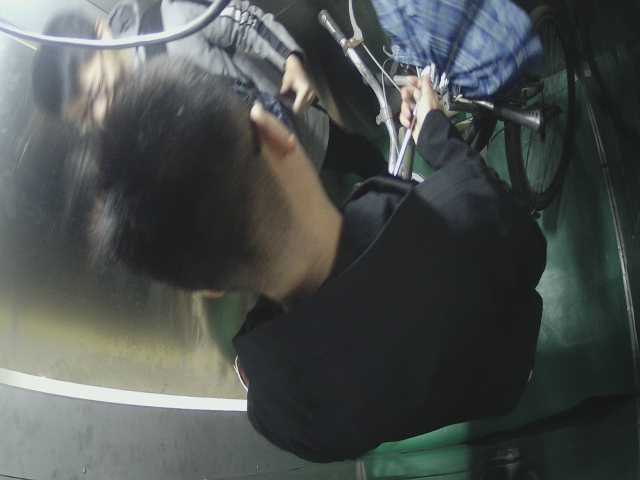bicycle: (297, 8, 602, 198)
person: (86, 69, 533, 421)
